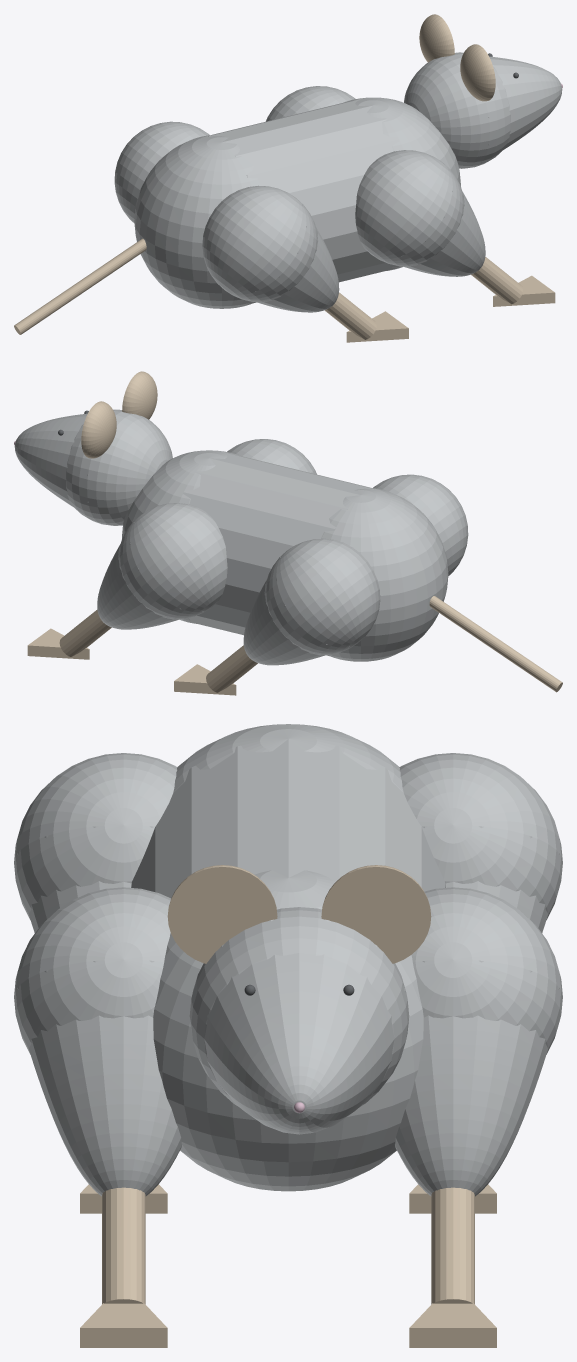
File: mouse.glb
3 views of the same model, one above another, from view 1: azimuth 30°, elevation 25°; view 2: azimuth 150°, elevation 25°; view 3: azimuth 270°, elevation 25° (orthographic). The views are drawn at different scales.
Visible parts, largest first — view 1: Mesh_Mesh_head_geo.001_lambert2SG.001; view 2: Mesh_Mesh_head_geo.001_lambert2SG.001; view 3: Mesh_Mesh_head_geo.001_lambert2SG.001.
Boxes of the visible parts, left/top/right/bottom form: Mesh_Mesh_head_geo.001_lambert2SG.001: left=14, top=14, right=562, bottom=342; Mesh_Mesh_head_geo.001_lambert2SG.001: left=14, top=371, right=562, bottom=695; Mesh_Mesh_head_geo.001_lambert2SG.001: left=14, top=724, right=562, bottom=1347.
Size of the model in its own units: 54.12 by 22.5 by 25.
